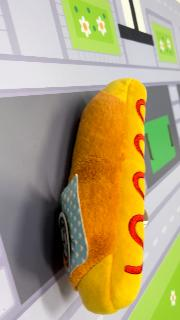hotdog: (58, 77, 148, 315)
